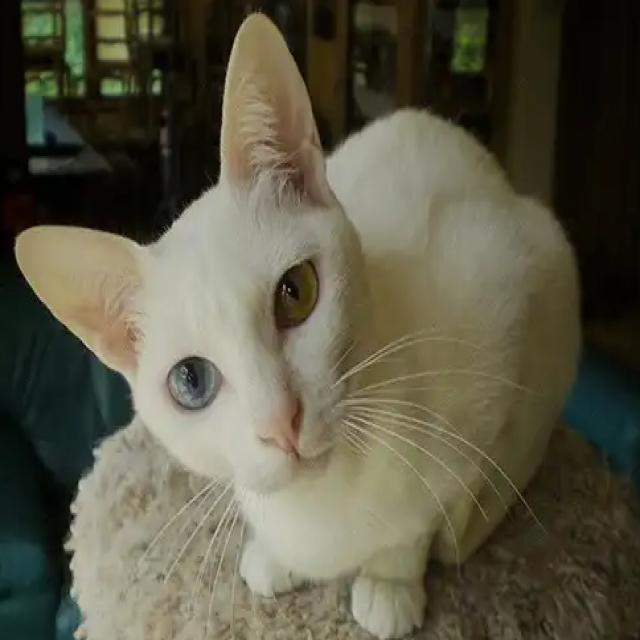Khao Manee: (9, 7, 583, 640)
